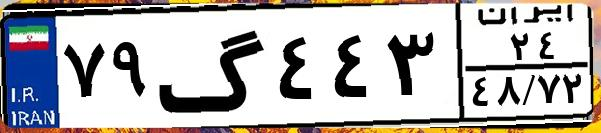2: (560, 70, 590, 125), (508, 27, 537, 80)
3: (385, 28, 445, 110)
4: (270, 28, 330, 110), (330, 28, 385, 110), (537, 27, 568, 80), (470, 70, 495, 125)
7: (57, 26, 110, 100), (535, 70, 560, 125)
8: (495, 70, 520, 125)
9: (110, 28, 156, 98)
گ: (156, 12, 270, 120)
